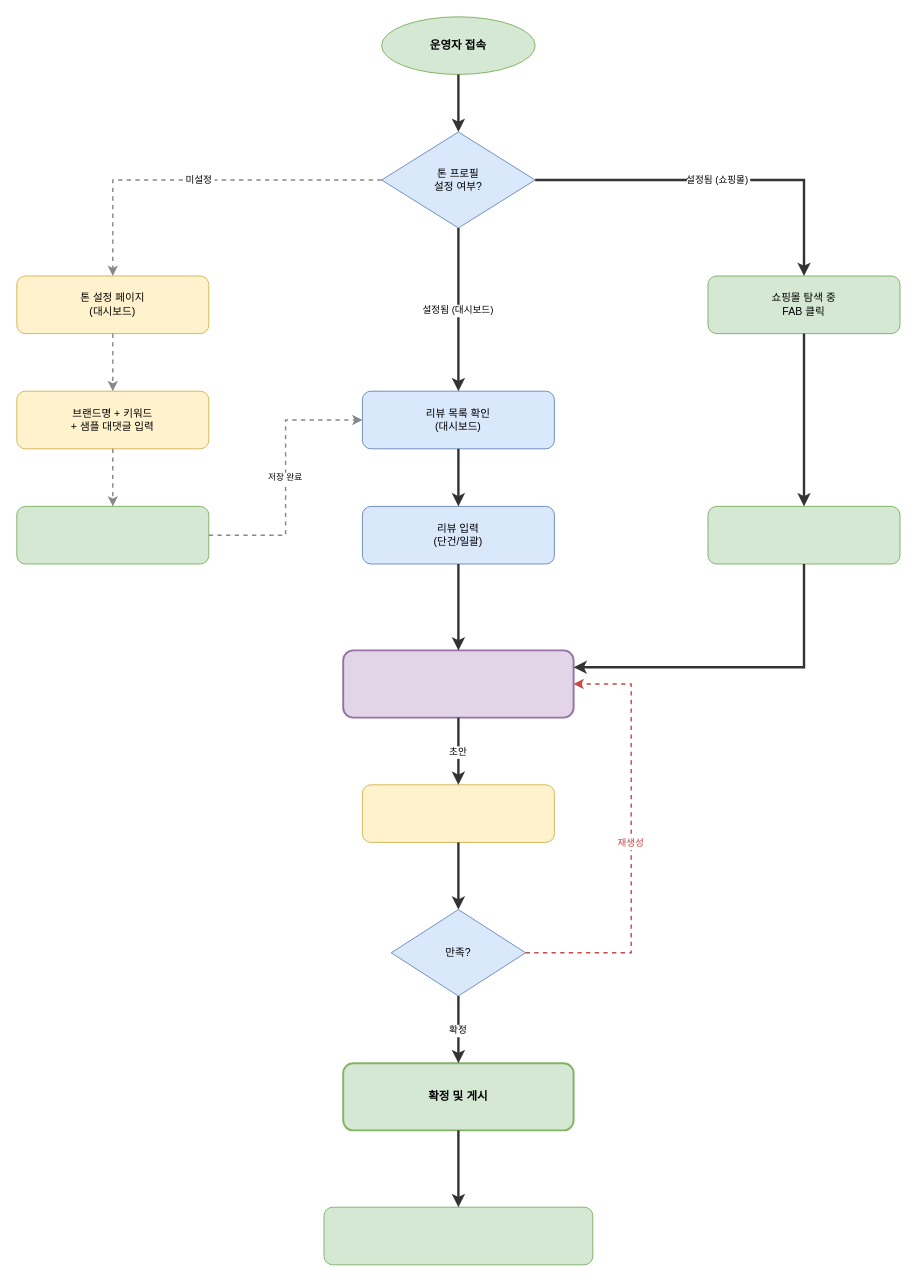
Some shapes in this 917 by 1282 pixel diagram are drawn without their labels. The shapes that lost their labels are listed below. From the top down, each one's box as (x1, y1, x2, y2) in pixels, then its label:
(16, 505, 209, 564): 톤 프로필 저장
(707, 505, 900, 564): 미니패널 오픈 (리뷰 선택)
(342, 649, 574, 718): 대댓글 생성 (감성분류 + LLM)
(361, 784, 554, 842): 초안 확인 / 수정
(323, 1206, 593, 1265): 쇼핑몰에서 대댓글 확인 + 히스토리 저장
